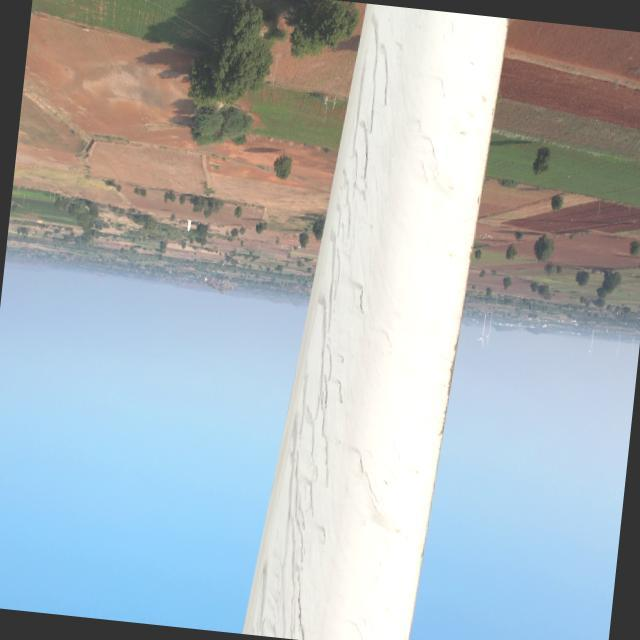Dirt: (244, 0, 405, 640)
